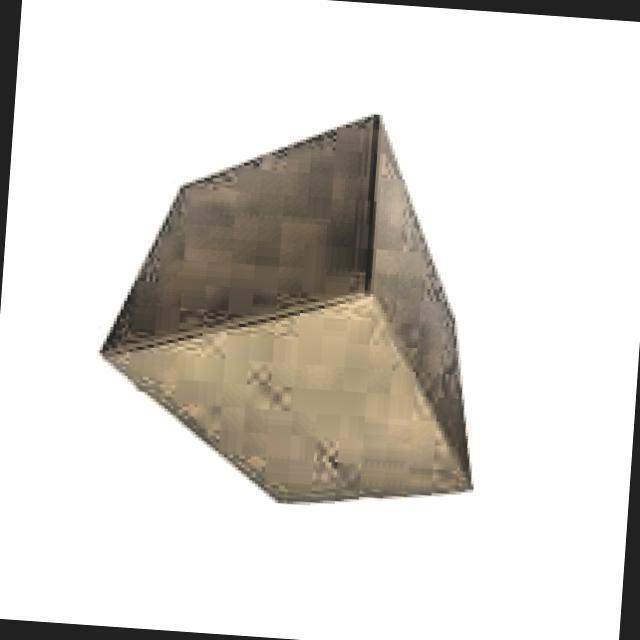cardboard: (86, 96, 498, 522)
